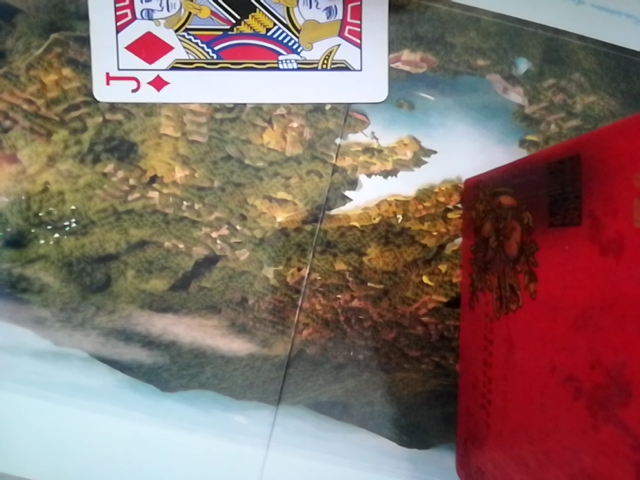fk j: (81, 0, 394, 106)
